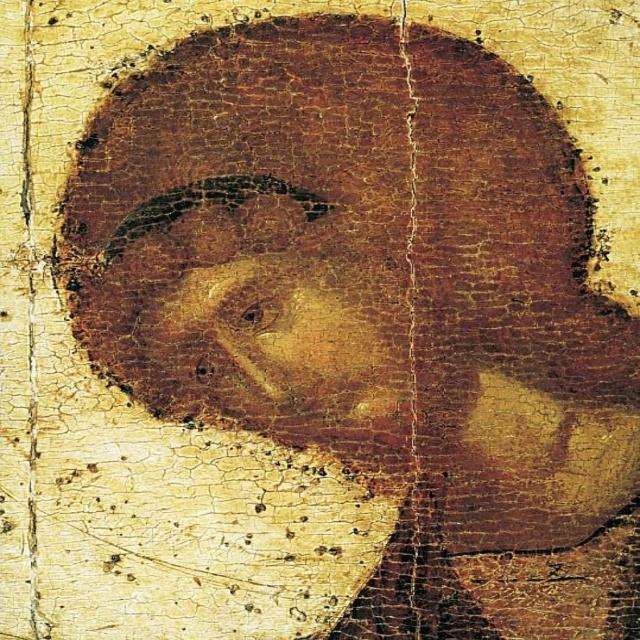christ_face: (87, 190, 478, 482)
